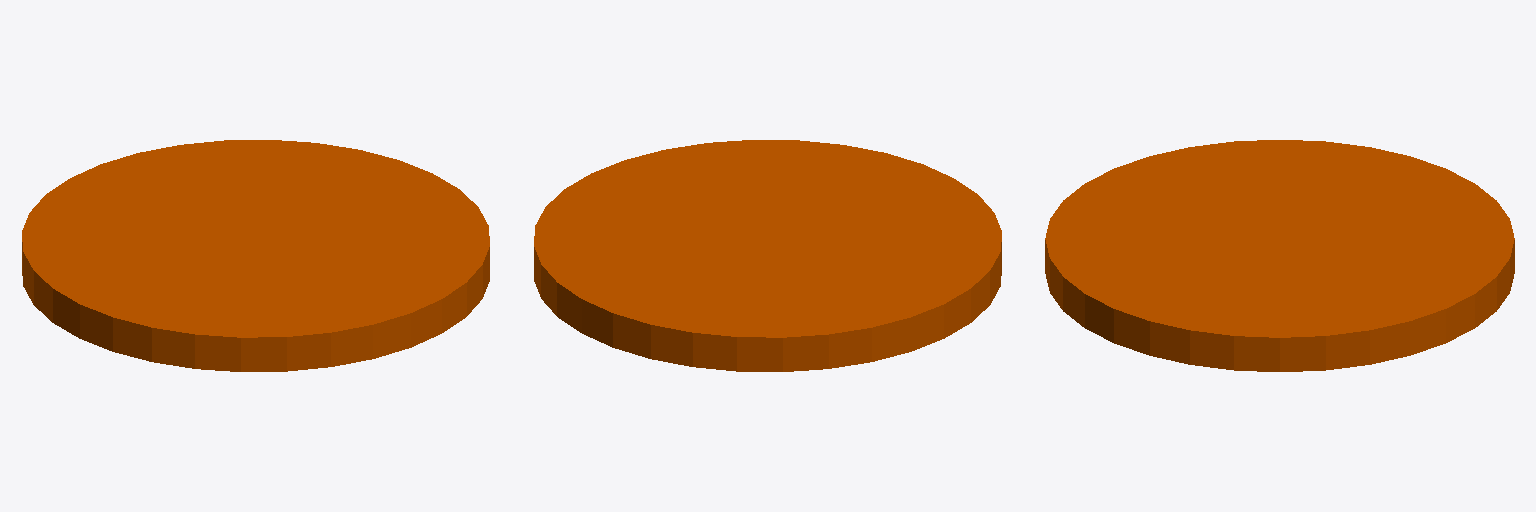
3 renders of one model, left to right at view 1: azimuth 30°, elevation 25°; view 2: azimuth 150°, elevation 25°; view 3: azimuth 270°, elevation 25°, orthographic.
Visible parts, largest first — view 1: Cylinder_base; view 2: Cylinder_base; view 3: Cylinder_base.
Boxes of the visible parts, box(x1,y1,x2,y2) form: Cylinder_base: box(22, 140, 489, 371); Cylinder_base: box(534, 140, 1001, 371); Cylinder_base: box(1045, 140, 1514, 371).
Size of the model in its own units: 2 by 0.1622 by 2.